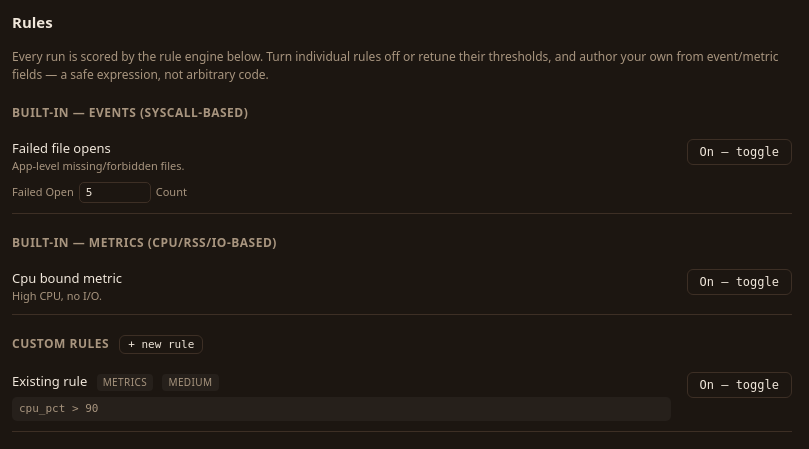
RulesSettings › toggling a built-in rule PUTs enabled=false and flips the button
This screenshot has width=809, height=449.
Expected: the text "Failed file opens" is shown, top-left (12, 139), bottom-right (111, 157)
Click the button "On — toggle" in the row of "App-level missing/forbidden files.".
click(739, 152)  # box top-left (686, 139), bottom-right (792, 165)
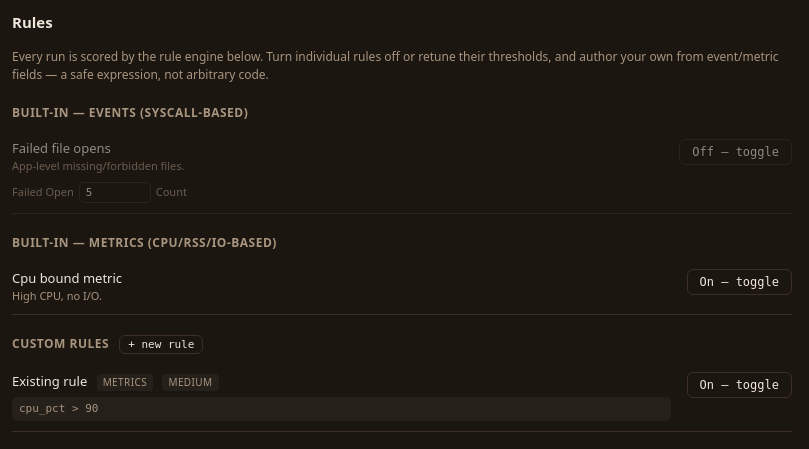
Expected: the button "Off — toggle" is shown, top-left (679, 139), bottom-right (792, 165)
